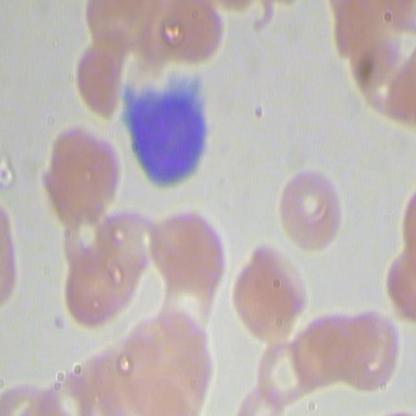RBC: (34, 122, 125, 227), (230, 240, 312, 341), (145, 199, 227, 300), (274, 166, 348, 252), (334, 310, 400, 394), (65, 42, 129, 117), (60, 251, 123, 326), (160, 1, 224, 74), (256, 336, 305, 406)
WBC: (104, 66, 217, 191)
